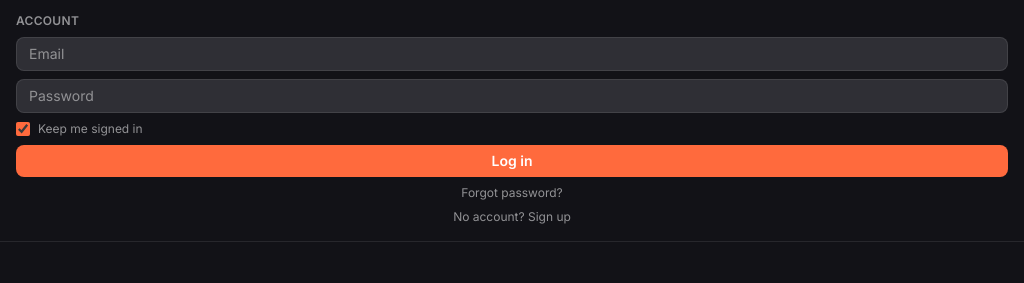
shows authentication failure and makes the form usable again
Type "person@example.com" into the field with placeholder "Email". click: (512, 54)
box: [16,37,1008,71]
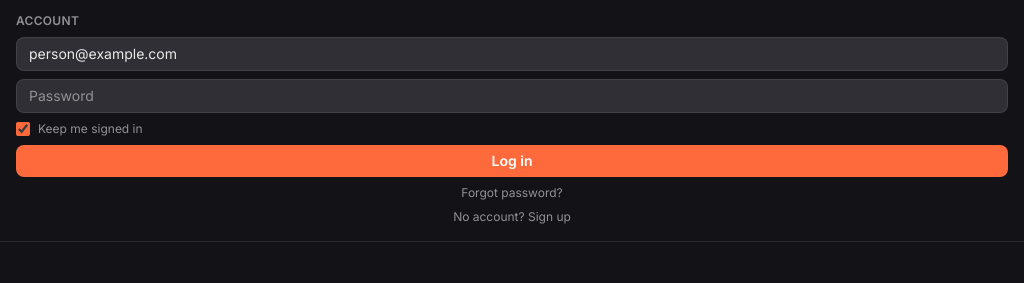
Type "valid-password" into the password field with placeholder "Password". click: (512, 96)
box: [16,79,1008,113]
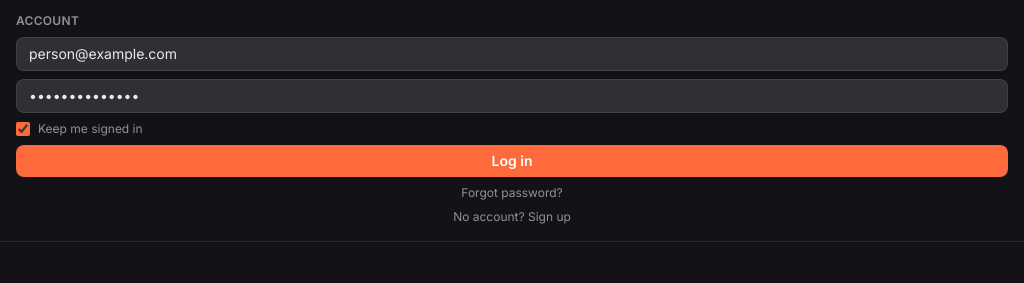
Submit the form
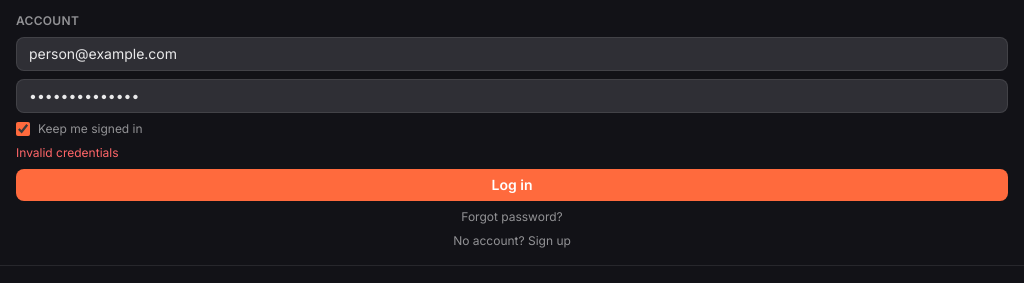
Expected: the button "Log in" is enabled, [16,169,1008,201]
Expected: the text "Invalid credentials" is shown, [16,145,118,160]
